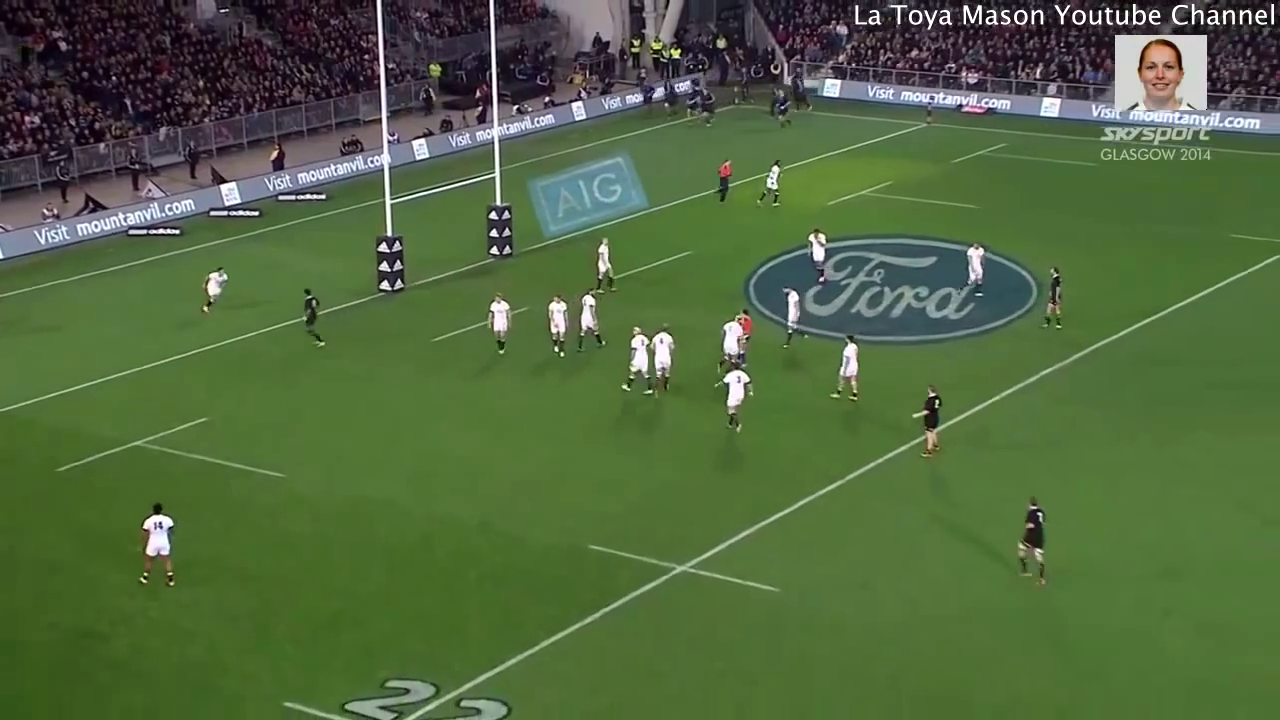player: (135, 500, 183, 593), (1013, 494, 1053, 594), (711, 361, 753, 432), (908, 383, 944, 464), (617, 323, 656, 396), (826, 332, 863, 406), (776, 282, 811, 352), (574, 284, 608, 355), (648, 320, 677, 399), (589, 231, 622, 300), (297, 284, 329, 352), (1037, 264, 1066, 334), (482, 290, 511, 360), (752, 157, 788, 212), (542, 290, 568, 360), (962, 240, 991, 300), (805, 227, 833, 288), (199, 264, 232, 314), (719, 314, 744, 372), (712, 156, 737, 206), (732, 304, 754, 342)
post: (373, 47, 516, 299)
